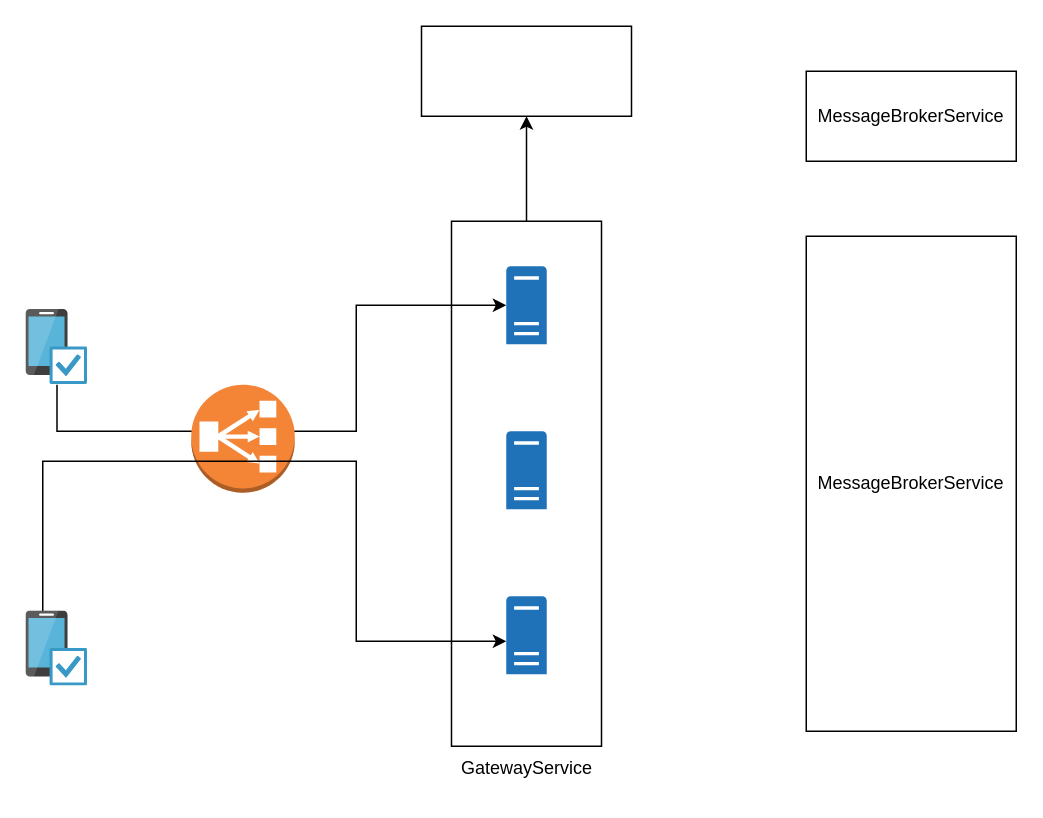
Some shapes in this 1043 by 818 pixel diagram are drawn without their labels. Each missing label, with the box of its shape:
AuthService: (420, 25, 632, 116)
Load Balancer: (190, 383, 295, 493)
